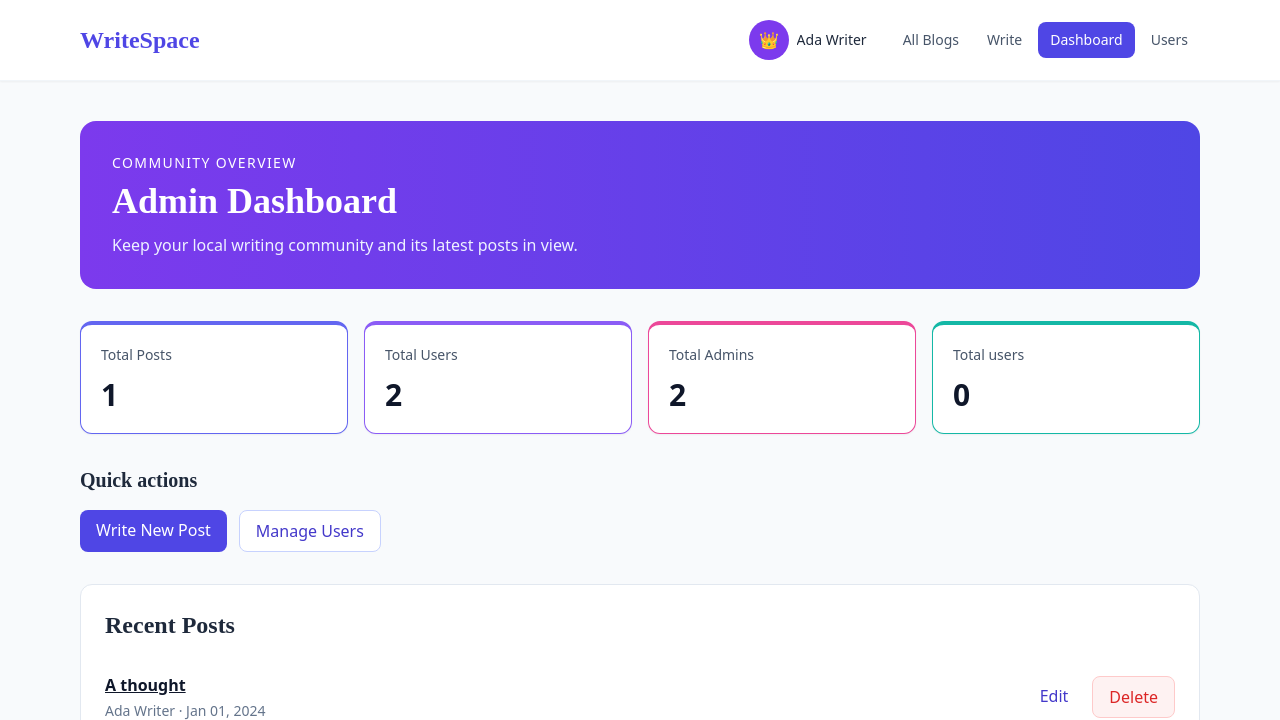
Scenario: guards and role navigation › logs admin out from /admin to the public home, never login
Check: the heading "Admin Dashboard" is shown, box left=112, top=181, right=397, bottom=221
Click the button with aria-label "Account: Ada Writer" at [812, 40], box left=745, top=16, right=879, bottom=64
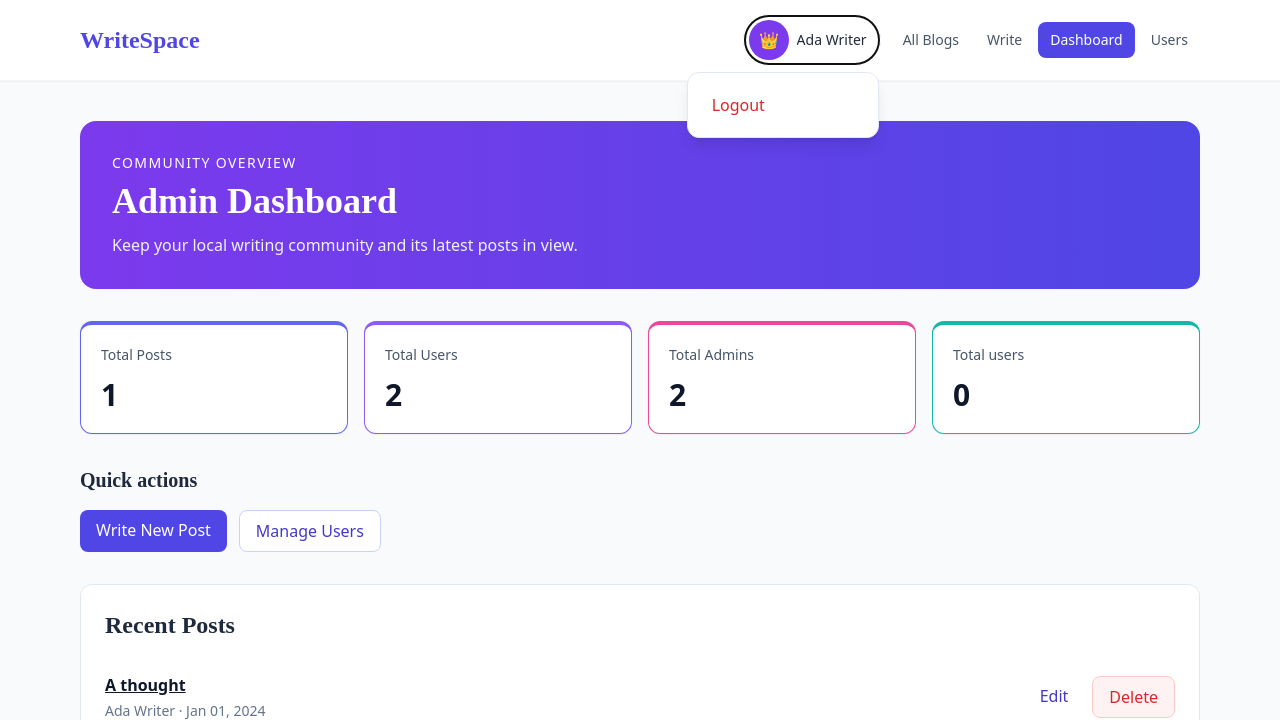
Click the button "Logout" at [783, 105], box left=696, top=81, right=870, bottom=129
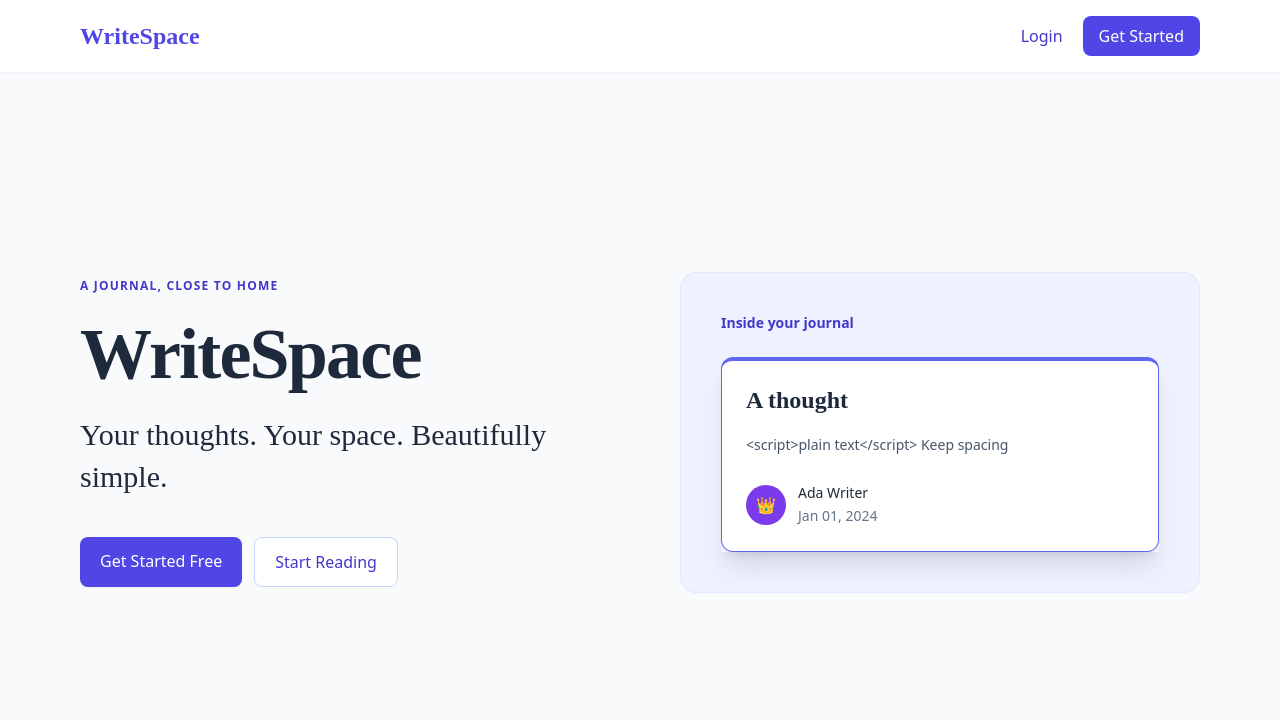
Check: the heading "WriteSpace" is shown, box left=80, top=314, right=421, bottom=394
Check: the link "Get Started" is shown, box left=1083, top=16, right=1200, bottom=56
